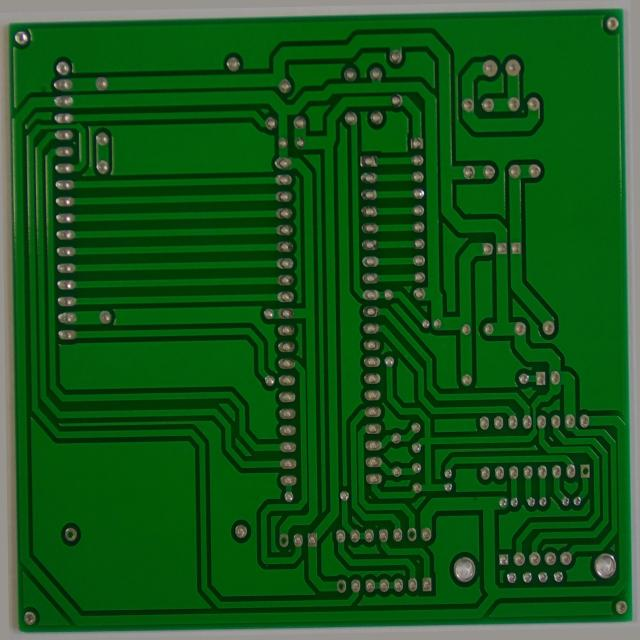missing_hole: (329, 580, 347, 602), (56, 523, 72, 544), (578, 470, 595, 488), (272, 535, 288, 552), (403, 531, 417, 549)
